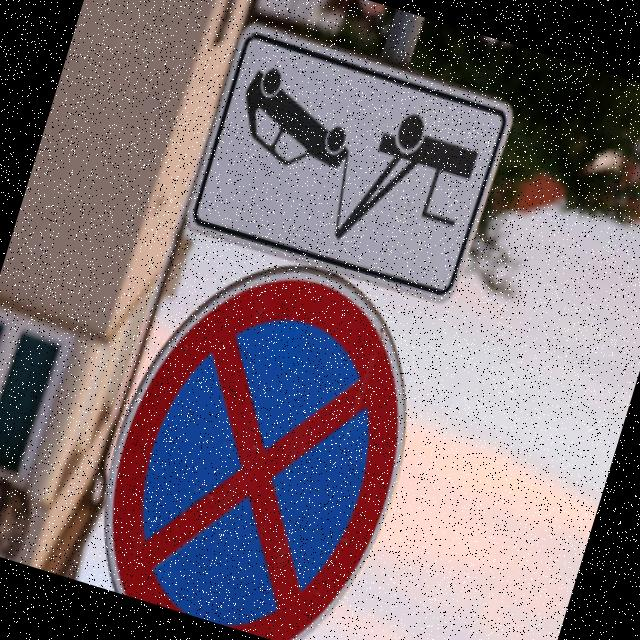no_parking: (73, 222, 460, 640)
